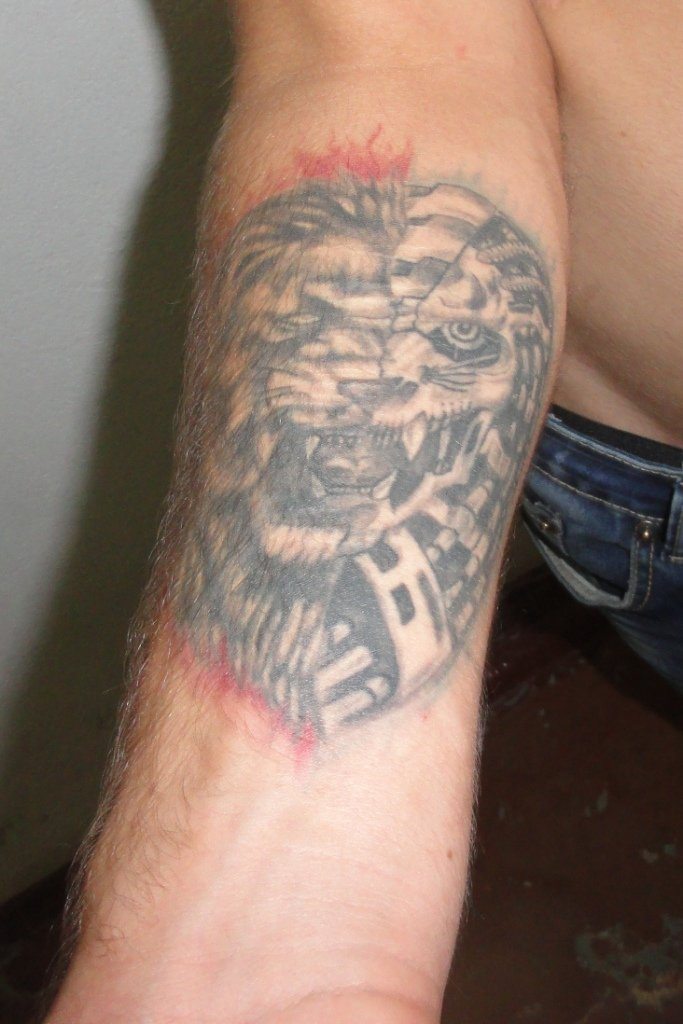tatu8_kot: (152, 105, 572, 787)
